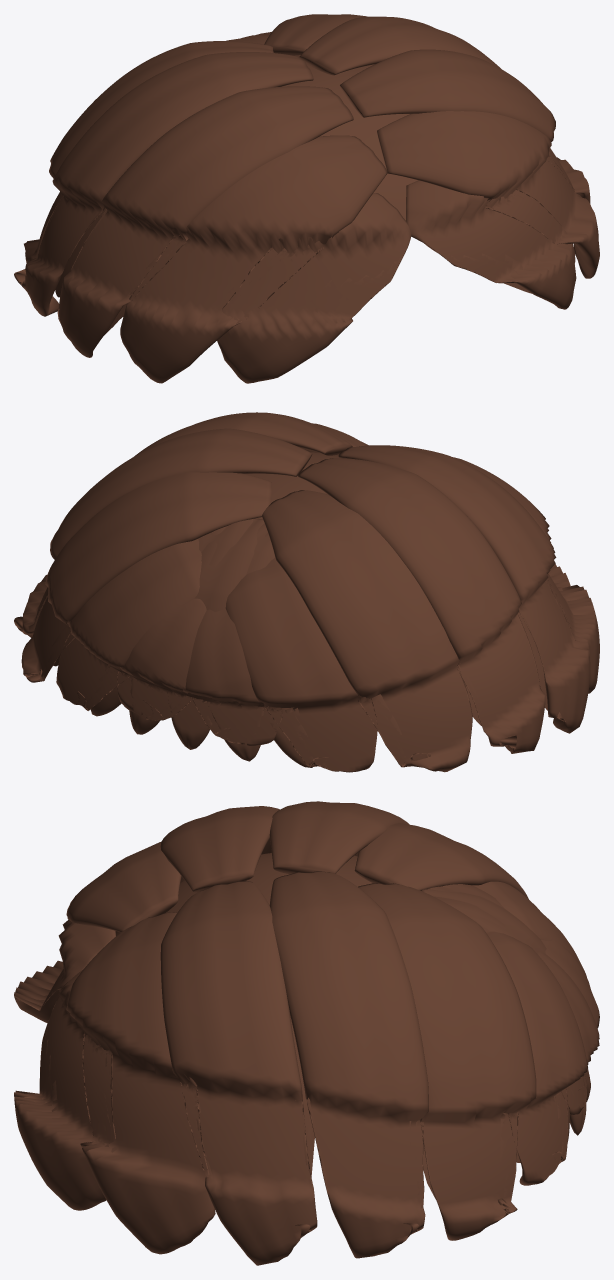
The model's file is Masculine-middle-part-headband261-hair.glb.
The picture shows the model from 3 angles, top to bottom: view 1: azimuth 30°, elevation 25°; view 2: azimuth 150°, elevation 25°; view 3: azimuth 270°, elevation 25°; orthographic projection. The views are drawn at different scales.
Parts seen in each view (by area): view 1: 226 hair / Hair260 / layered middle-part; view 2: 226 hair / Hair260 / layered middle-part; view 3: 226 hair / Hair260 / layered middle-part.
Part boxes in pixels (x1,y1,x2,y2): 226 hair / Hair260 / layered middle-part: (14,14,599,383); 226 hair / Hair260 / layered middle-part: (14,412,599,772); 226 hair / Hair260 / layered middle-part: (14,801,599,1265).
Bounding box in the file's own units: 1.03 × 0.4519 × 0.8714.
